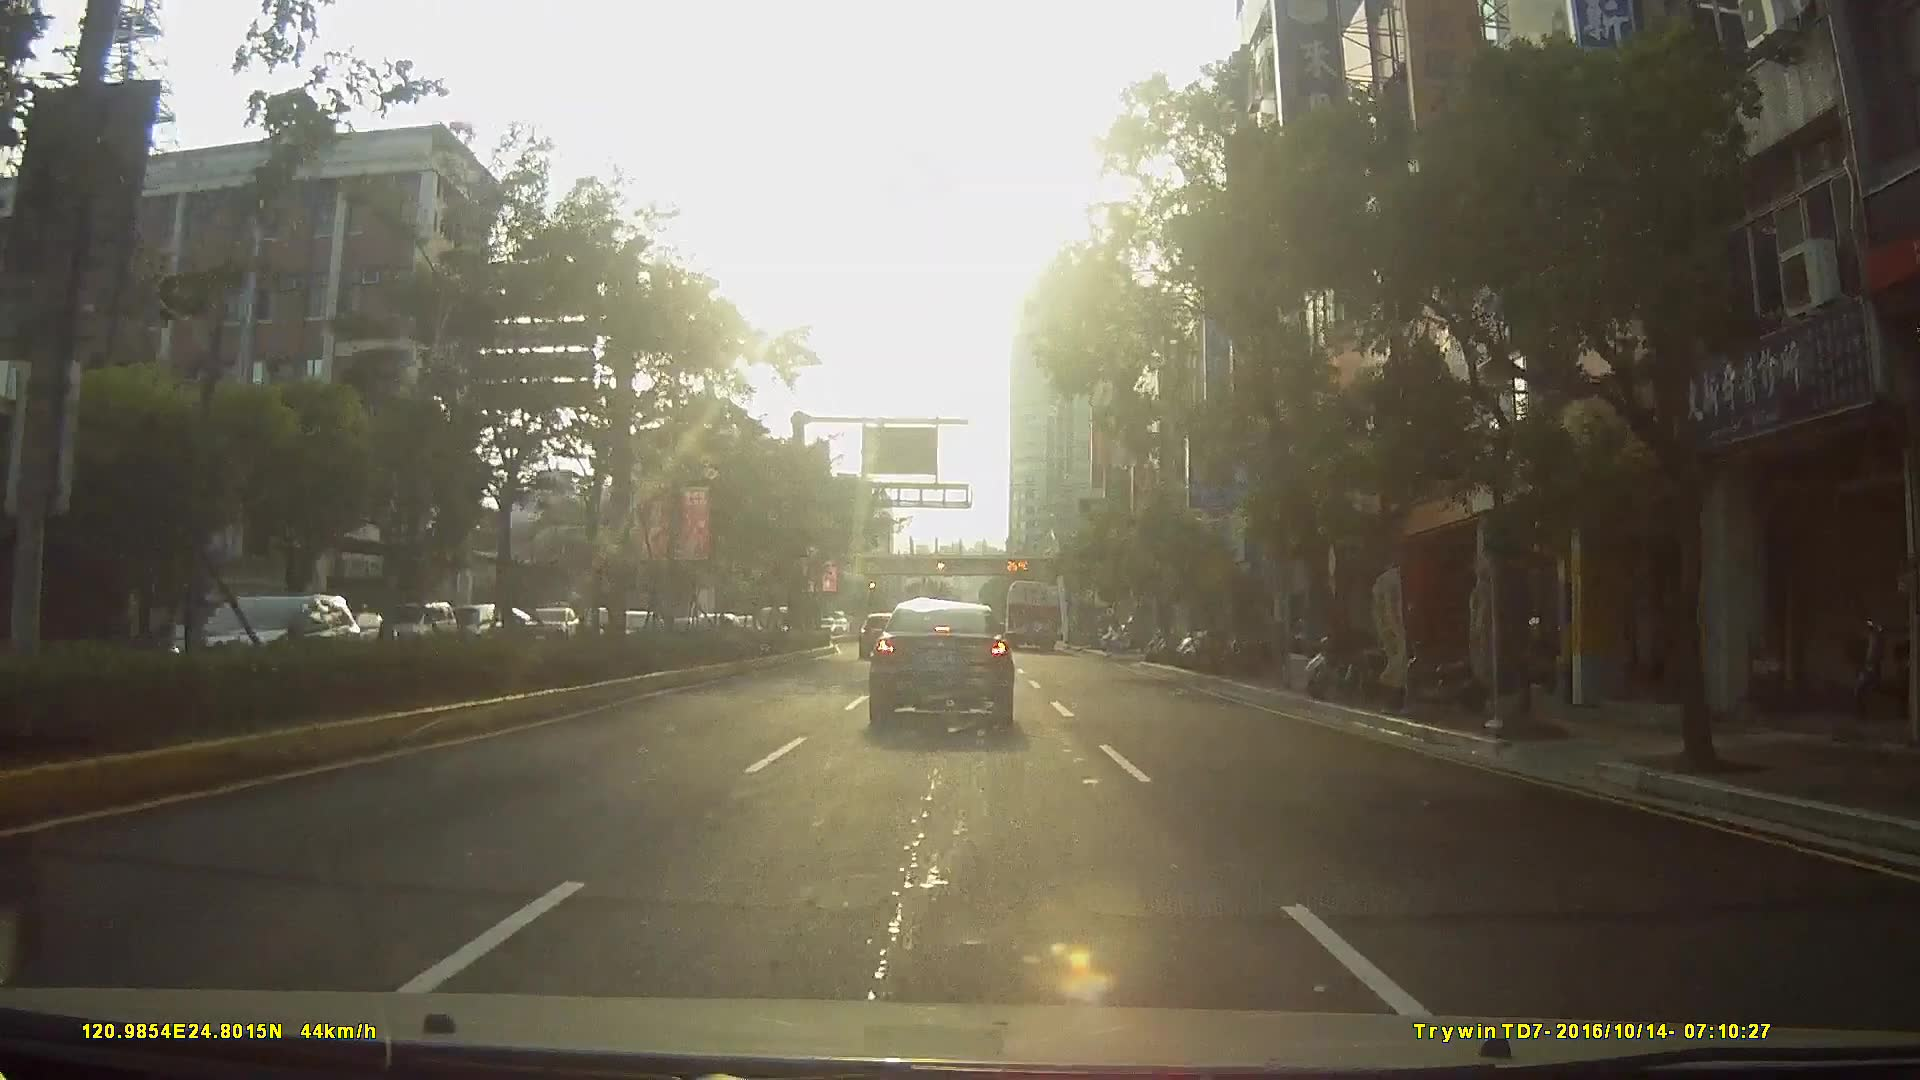vehicle: (162, 592, 375, 695), (864, 599, 1015, 729), (170, 595, 284, 667), (1001, 579, 1062, 651), (384, 603, 455, 651), (439, 603, 504, 651), (520, 607, 580, 646), (857, 612, 899, 661)
